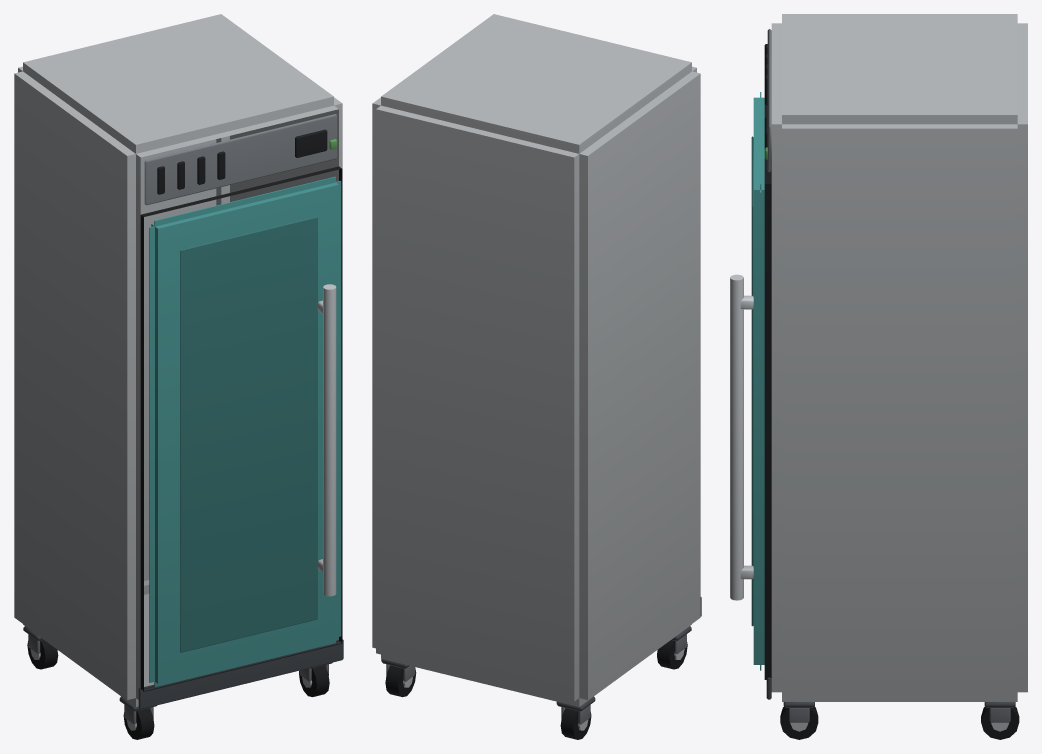
Rendered from SM_ReachIn_1Door_075.glb.
3 views of the same model, side by side, from view 1: azimuth 30°, elevation 25°; view 2: azimuth 150°, elevation 25°; view 3: azimuth 270°, elevation 25° (orthographic). The views are drawn at different scales.
Parts seen in each view (by area): view 1: SM_ReachIn_1Door_075; view 2: SM_ReachIn_1Door_075; view 3: SM_ReachIn_1Door_075.
Boxes of the visible parts, left/top/right/bottom form: SM_ReachIn_1Door_075: left=14, top=14, right=343, bottom=739; SM_ReachIn_1Door_075: left=372, top=14, right=701, bottom=739; SM_ReachIn_1Door_075: left=730, top=14, right=1027, bottom=739.
Size of the model in its own units: 0.75 by 2 by 0.86.
1 material, 1 textured.
